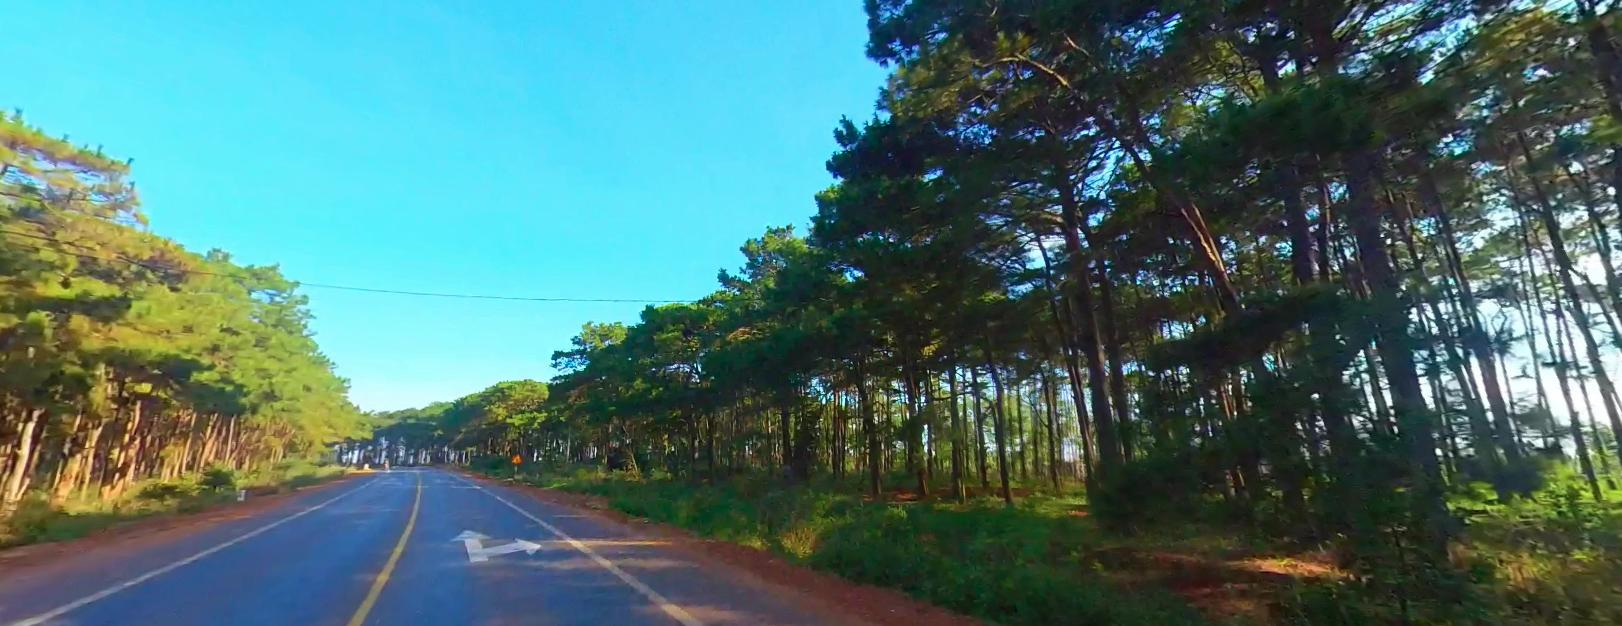Nguy hiem: (510, 451, 522, 463), (511, 451, 522, 463), (511, 451, 522, 461)
